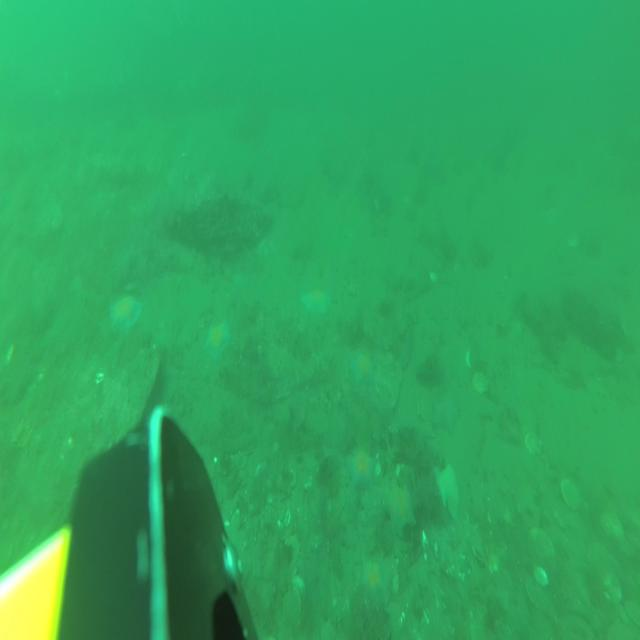scallop: (560, 476, 582, 512), (282, 589, 303, 626), (523, 429, 543, 458), (280, 466, 298, 496), (472, 369, 488, 396)
starfish: (385, 482, 416, 538), (363, 557, 390, 605), (109, 296, 141, 333), (204, 322, 232, 361), (348, 449, 376, 487), (352, 351, 377, 386), (302, 288, 329, 315)
